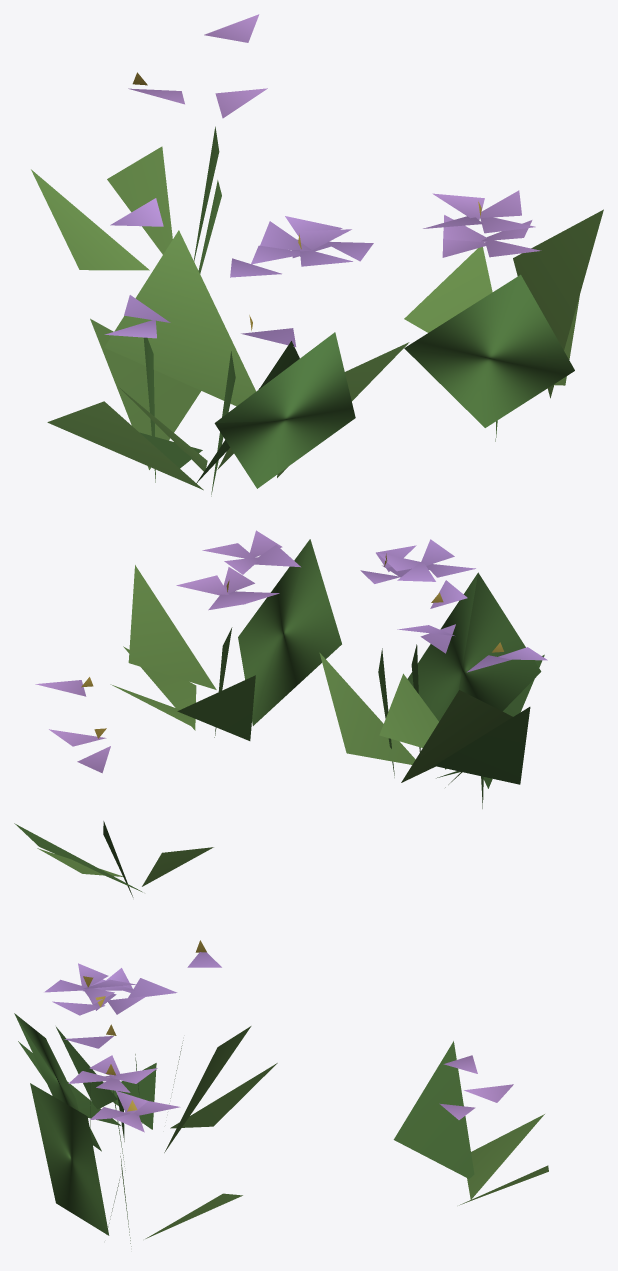
The model's file is shore_gc_sea_rocket_b_lod2.glb.
3 renders of one model, top to bottom at view 1: azimuth 30°, elevation 25°; view 2: azimuth 150°, elevation 25°; view 3: azimuth 270°, elevation 25°, orthographic. The views are drawn at different scales.
Parts seen in each view (by area): view 1: shore_gc_sea_rocket_b.001; view 2: shore_gc_sea_rocket_b.001; view 3: shore_gc_sea_rocket_b.001.
Boxes of the visible parts, bbox=[...] form: shore_gc_sea_rocket_b.001: bbox=[31, 14, 603, 496]; shore_gc_sea_rocket_b.001: bbox=[14, 530, 547, 897]; shore_gc_sea_rocket_b.001: bbox=[14, 940, 548, 1246].
Size of the model in its own units: 3.22 by 1.5 by 4.09.
